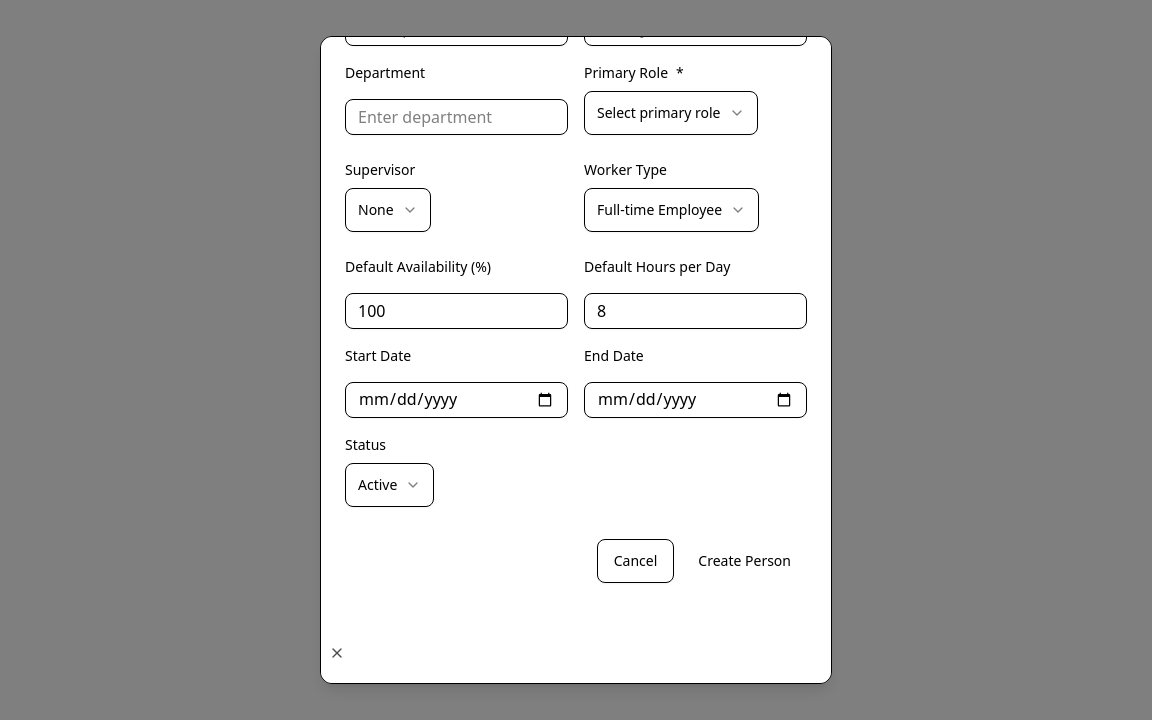
Test case: PersonModal › Form Validation › shows error when submitting without primary role
(page scrolled)
Click the button "Create Person" at (745, 561), box [682, 539, 807, 583]
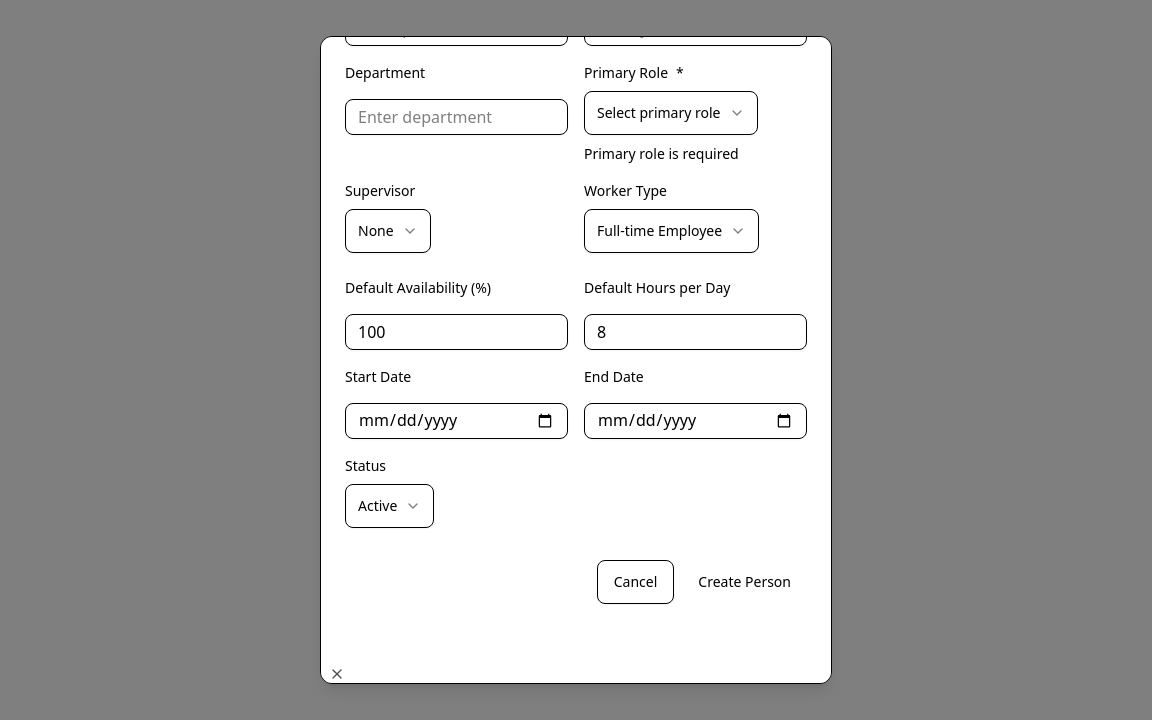
Now the text "Primary role is required" is shown, box [584, 144, 739, 163]
